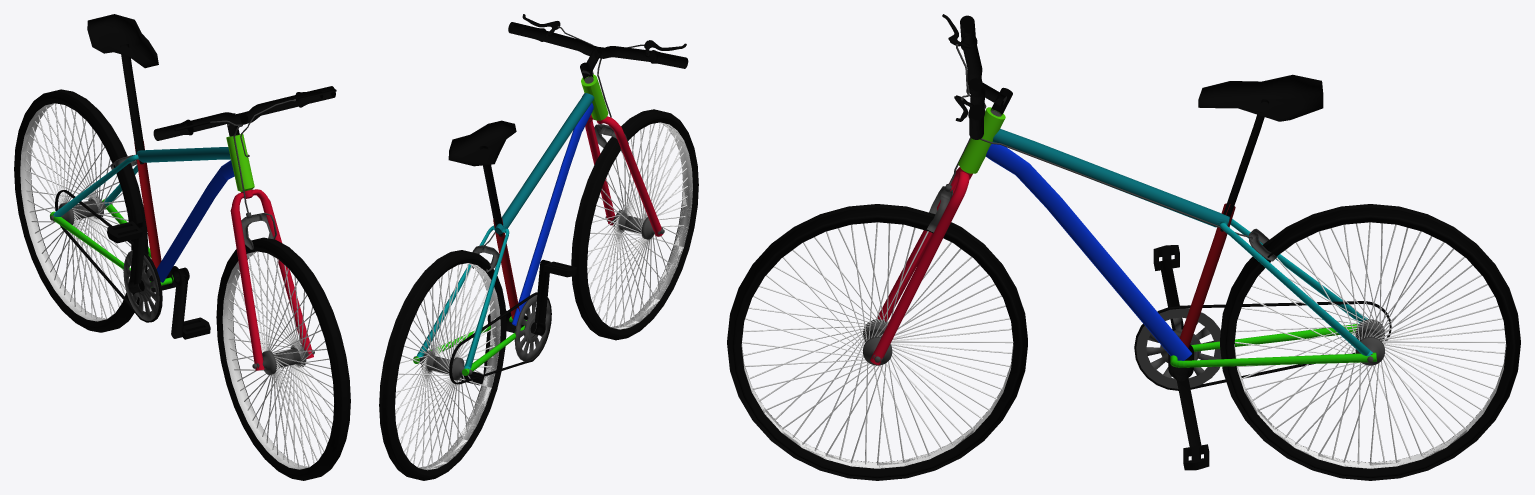
The model's file is MountainBikeV2.fbx.
3 renders of one model, left to right at view 1: azimuth 30°, elevation 25°; view 2: azimuth 150°, elevation 25°; view 3: azimuth 270°, elevation 25°, orthographic. The views are drawn at different scales.
Parts seen in each view (by area): view 1: FrontWheel, RearWheel, BikeFrame, Handle, Pedalier, PEdalRight, PEdalLeft; view 2: RearWheel, FrontWheel, BikeFrame, Handle, Pedalier, PEdalRight; view 3: FrontWheel, RearWheel, BikeFrame, Handle, Pedalier.
Part boxes in pixels (box(x1,y1,x2,y2)): FrontWheel: box(216, 237, 350, 480); RearWheel: box(14, 89, 148, 332); BikeFrame: box(50, 14, 254, 322); Handle: box(153, 86, 336, 370); Pedalier: box(128, 222, 189, 338); PEdalRight: box(107, 221, 142, 243); PEdalLeft: box(182, 317, 210, 339); RearWheel: box(379, 250, 506, 480); FrontWheel: box(571, 109, 698, 340); BikeFrame: box(413, 74, 608, 384); Handle: box(483, 14, 688, 247); Pedalier: box(483, 259, 550, 378); PEdalRight: box(543, 261, 577, 277); FrontWheel: box(727, 204, 1027, 480); RearWheel: box(1220, 204, 1520, 480); BikeFrame: box(958, 74, 1391, 390); Handle: box(870, 14, 1252, 365); Pedalier: box(1160, 259, 1201, 446).
Size of the model in its own units: 155 by 282 by 486.
